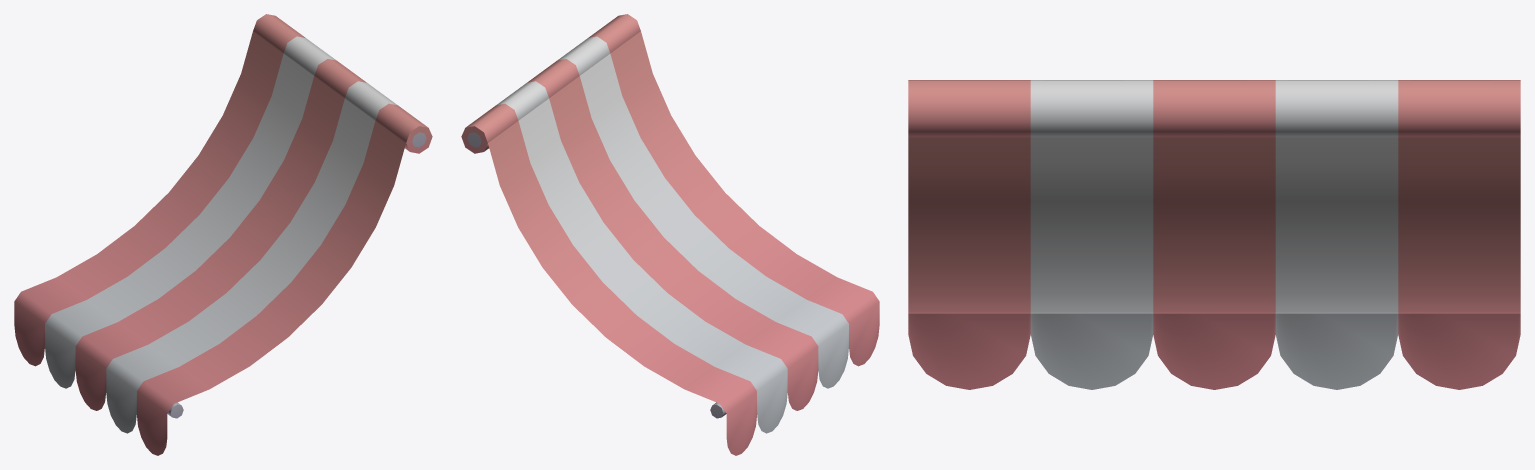
The model's file is awning (%wall).glb.
The picture shows the model from 3 angles, left to right: view 1: azimuth 30°, elevation 25°; view 2: azimuth 150°, elevation 25°; view 3: azimuth 270°, elevation 25°; orthographic projection. The views are drawn at different scales.
Parts seen in each view (by area): view 1: awning (%wall); view 2: awning (%wall); view 3: awning (%wall).
Part boxes in pixels (left/top/right/bottom): awning (%wall): left=14, top=14, right=432, bottom=455; awning (%wall): left=461, top=14, right=879, bottom=455; awning (%wall): left=908, top=80, right=1520, bottom=389.
Bounding box in the file's own units: 1 × 1 × 1.
